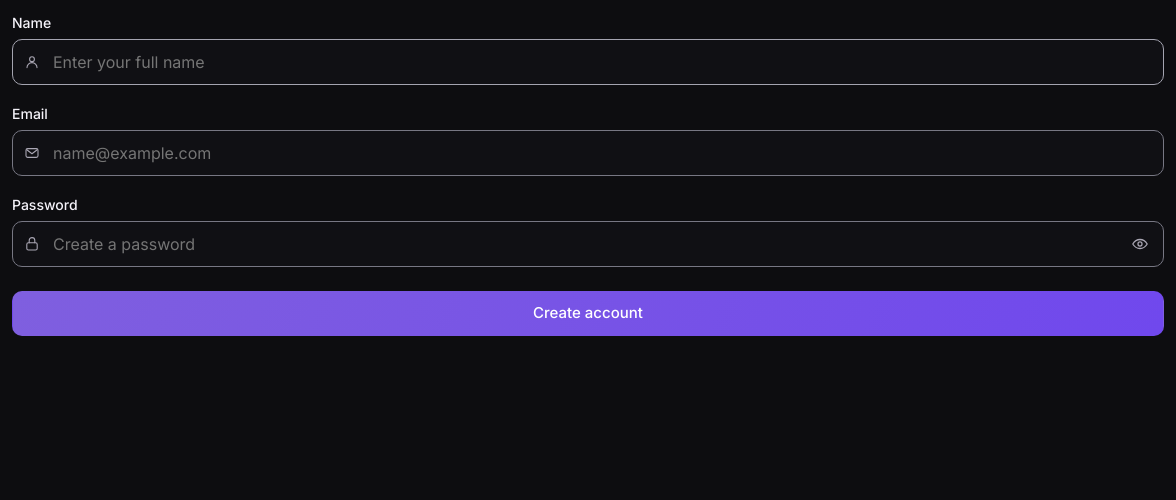
SignUpForm › points the user at the email when it is already registered
Type "jane@example.com" into the field with id "email" at (588, 153), box [12,130,1164,176]
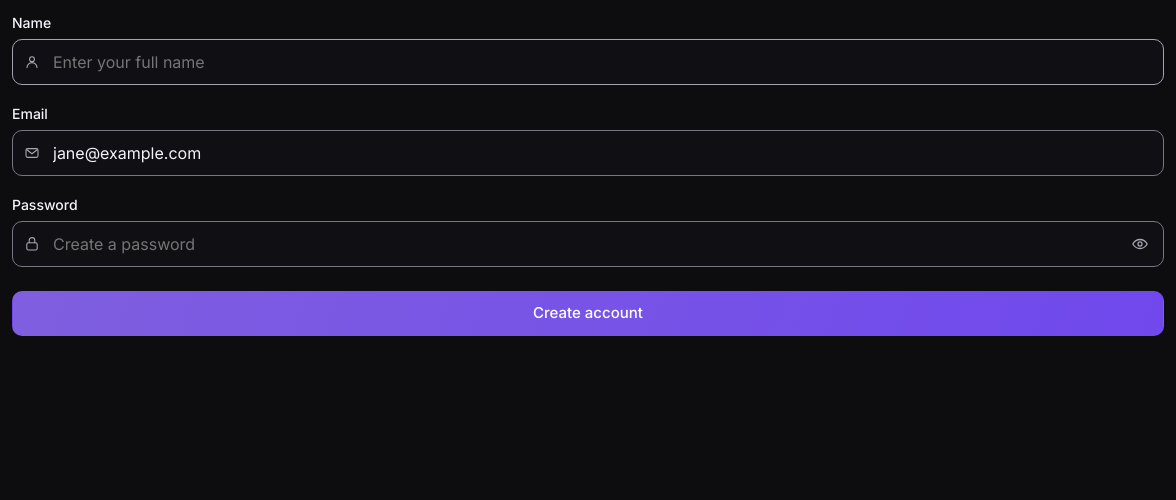
Type "Jane Doe" into the field with id "name" at (588, 62), box [12,39,1164,85]
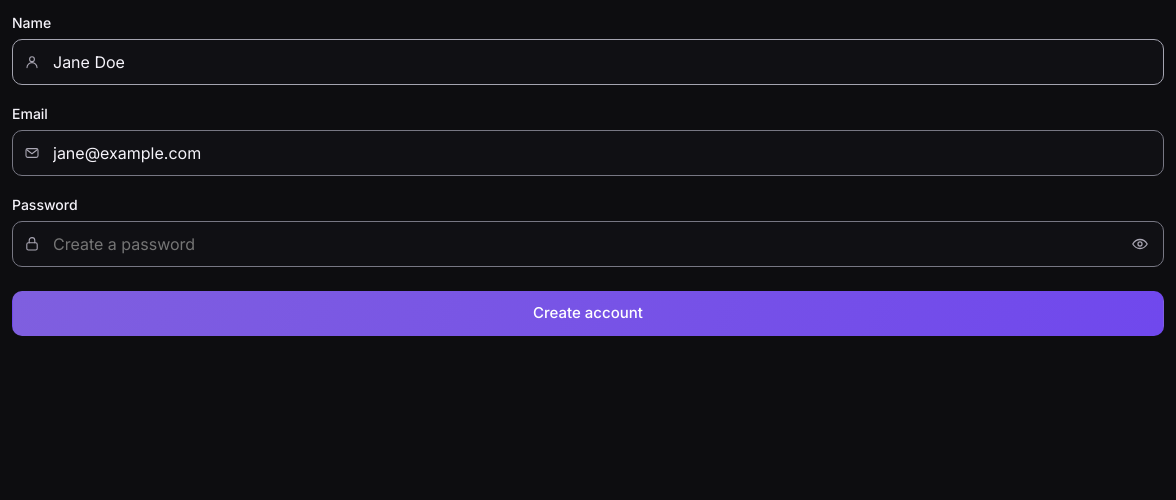
Type "P@ssw0rd!" into the password field labelled "Password" at (588, 244), box [12,221,1164,267]
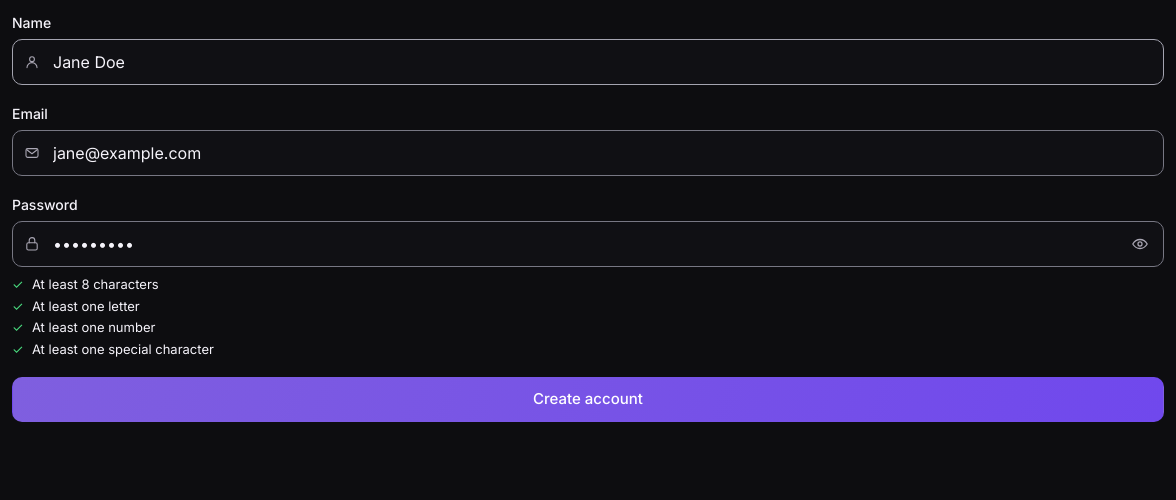
Submit the form
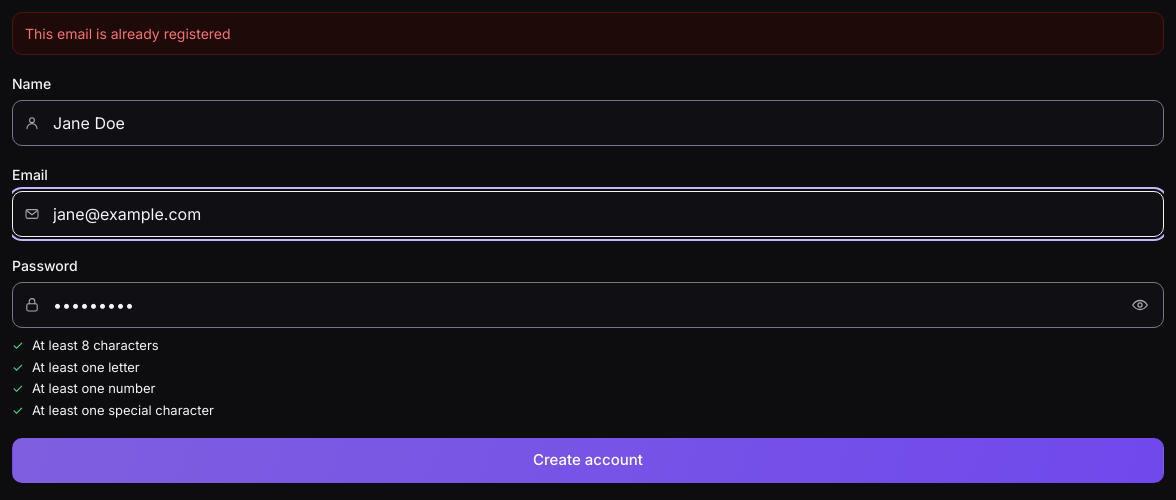
Now the message "This email is already registered" is shown, box [12,12,1164,55]
